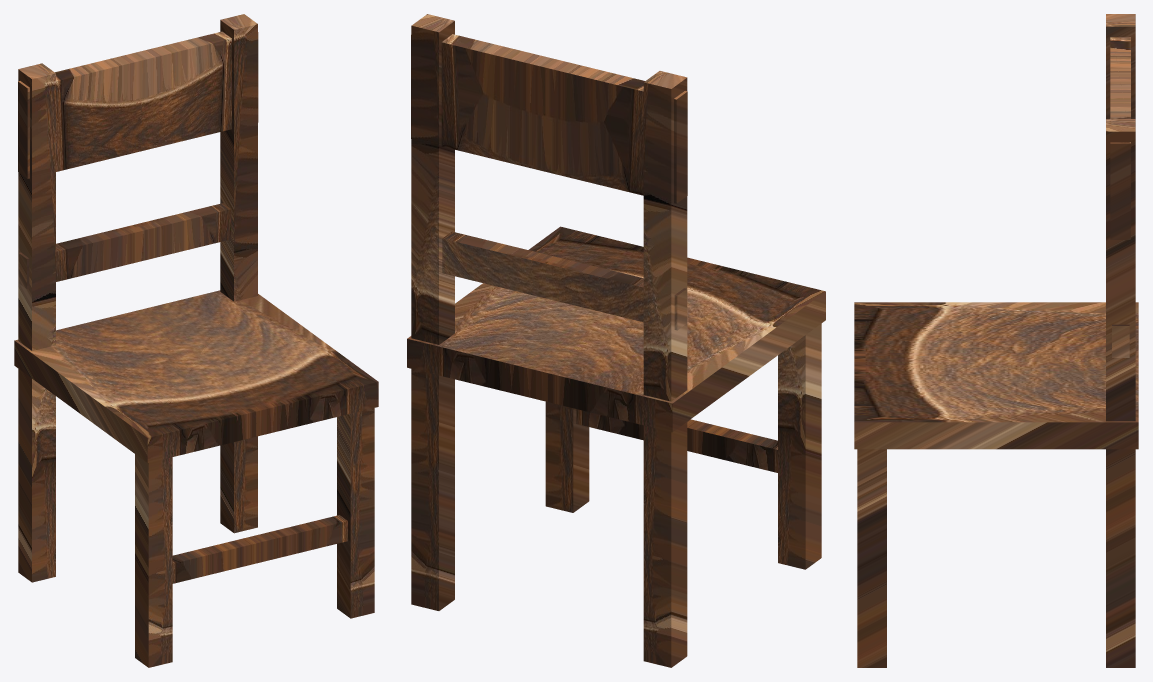
File: v3-library-chair.glb
3 renders of one model, left to right at view 1: azimuth 30°, elevation 25°; view 2: azimuth 150°, elevation 25°; view 3: azimuth 270°, elevation 25°, orthographic. The views are drawn at different scales.
Visible parts, largest first — view 1: v3-library-chair; view 2: v3-library-chair; view 3: v3-library-chair.
Part boxes in pixels (x1,y1,x2,y2): v3-library-chair: (14,14,378,667); v3-library-chair: (407,14,825,667); v3-library-chair: (854,14,1138,667).
Size of the model in its own units: 0.48 by 1 by 0.48.
Materials: 1 (1 with a texture image).
